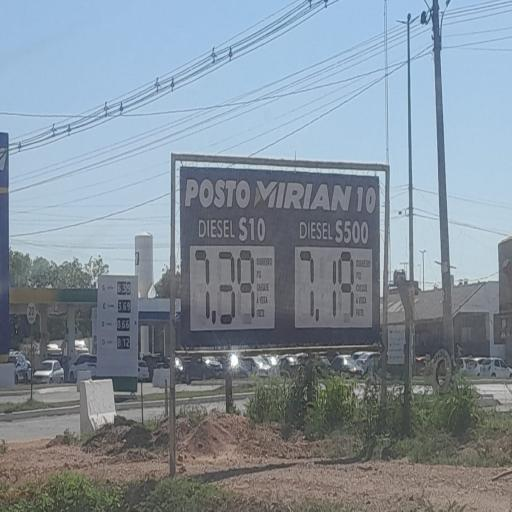S10: (192, 210, 274, 248), (296, 216, 372, 246)
placa: (172, 160, 382, 353)
preco: (297, 250, 356, 330), (192, 252, 256, 322)
